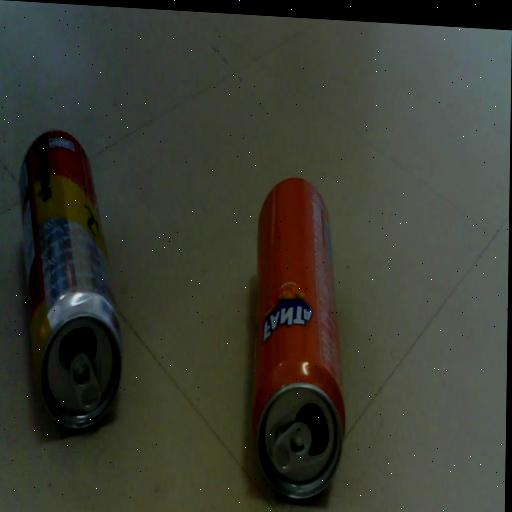canned: (6, 118, 135, 456), (243, 154, 360, 512)
